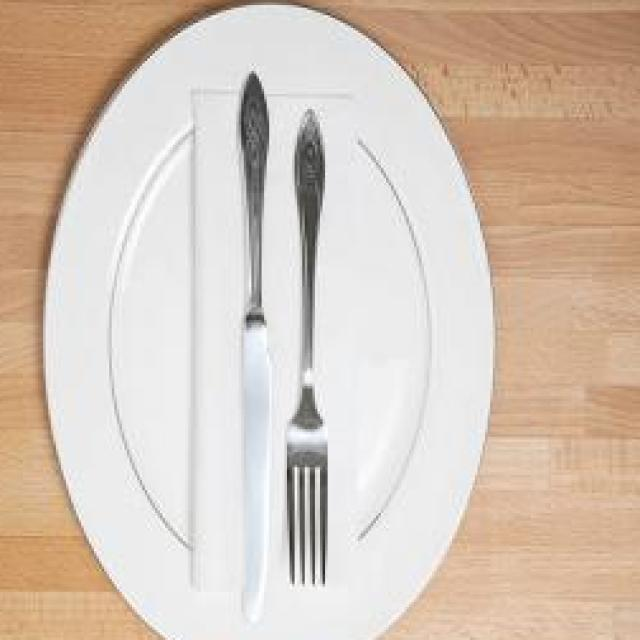knife: (238, 72, 280, 625)
